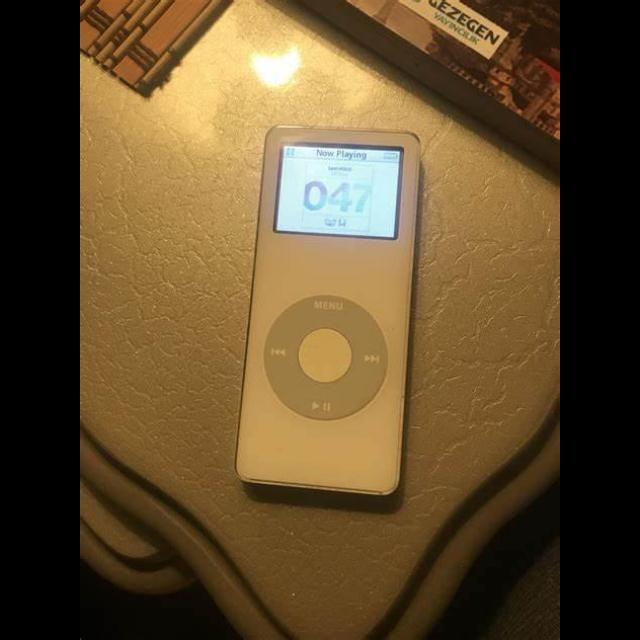Music-Player: (222, 120, 434, 510)
